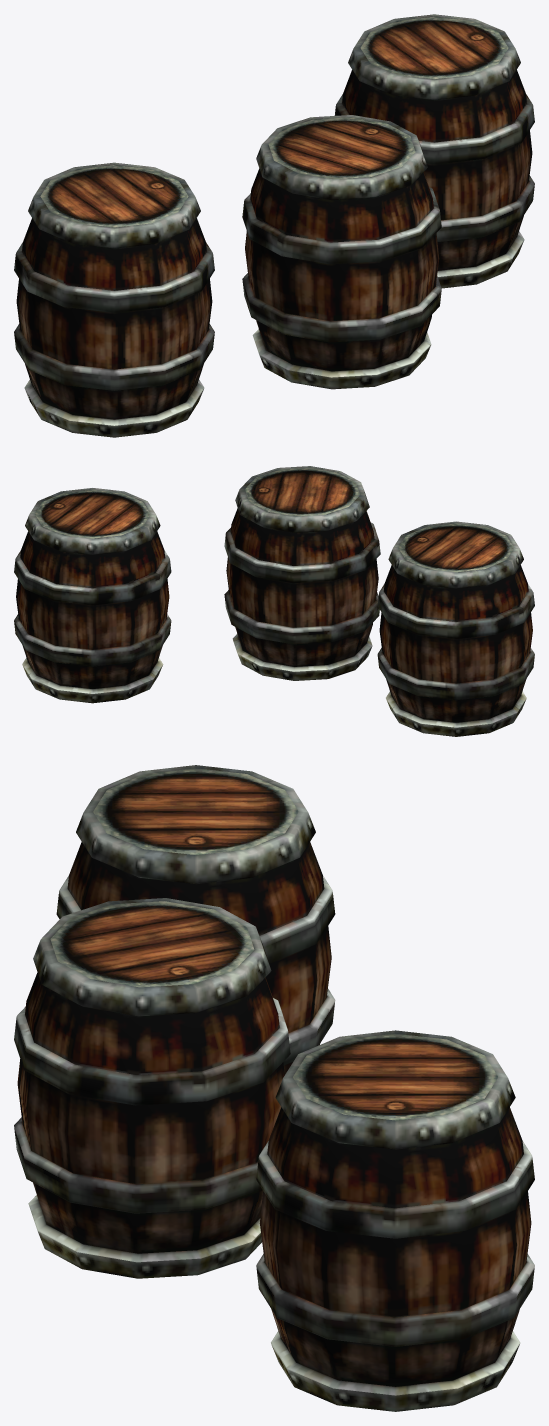
The model's file is PUSH3_BARRELS.fbx.
3 renders of one model, top to bottom at view 1: azimuth 30°, elevation 25°; view 2: azimuth 150°, elevation 25°; view 3: azimuth 270°, elevation 25°, orthographic. The views are drawn at different scales.
Parts seen in each view (by area): view 1: PUSH3_BARRELS; view 2: PUSH3_BARRELS; view 3: PUSH3_BARRELS.
Part boxes in pixels (x1,y1,x2,y2): PUSH3_BARRELS: (14, 14, 534, 437); PUSH3_BARRELS: (14, 466, 534, 736); PUSH3_BARRELS: (14, 765, 534, 1411).
Size of the model in its own units: 25622 by 9241 by 14723.
2 materials, 2 textured.
